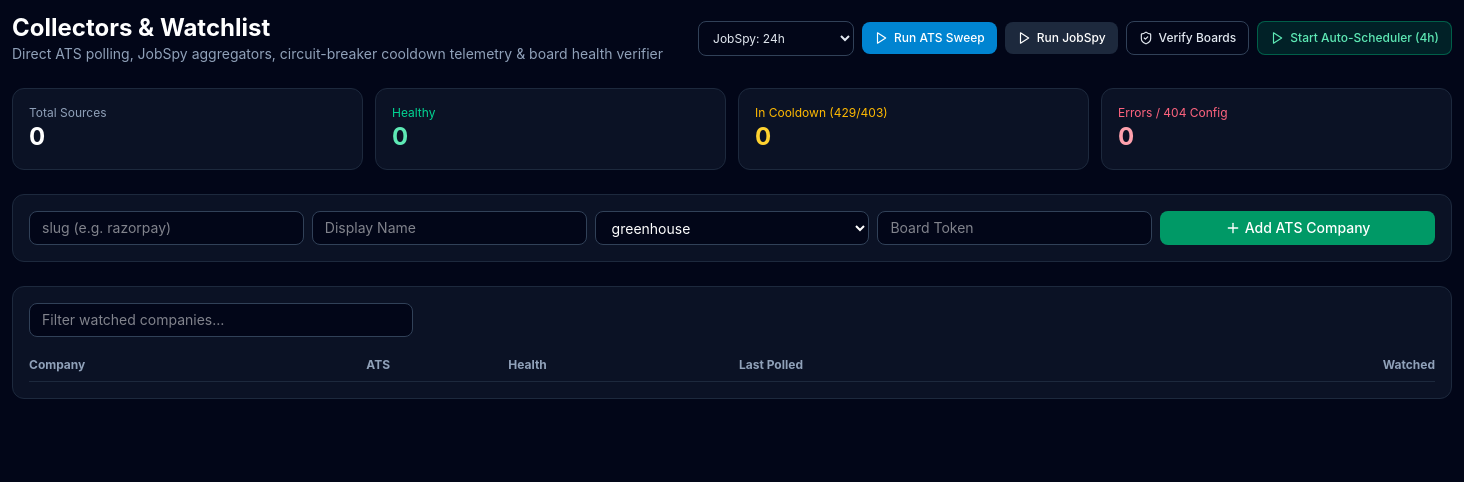
Test: Frontend Network Failure, Offline & API Error Resilience › CollectorsPage handles 409 overlap conflict banner when sweep already running
The image size is (1464, 482).
Click the button "Run ATS Sweep": (929, 38) [862, 22, 997, 54]
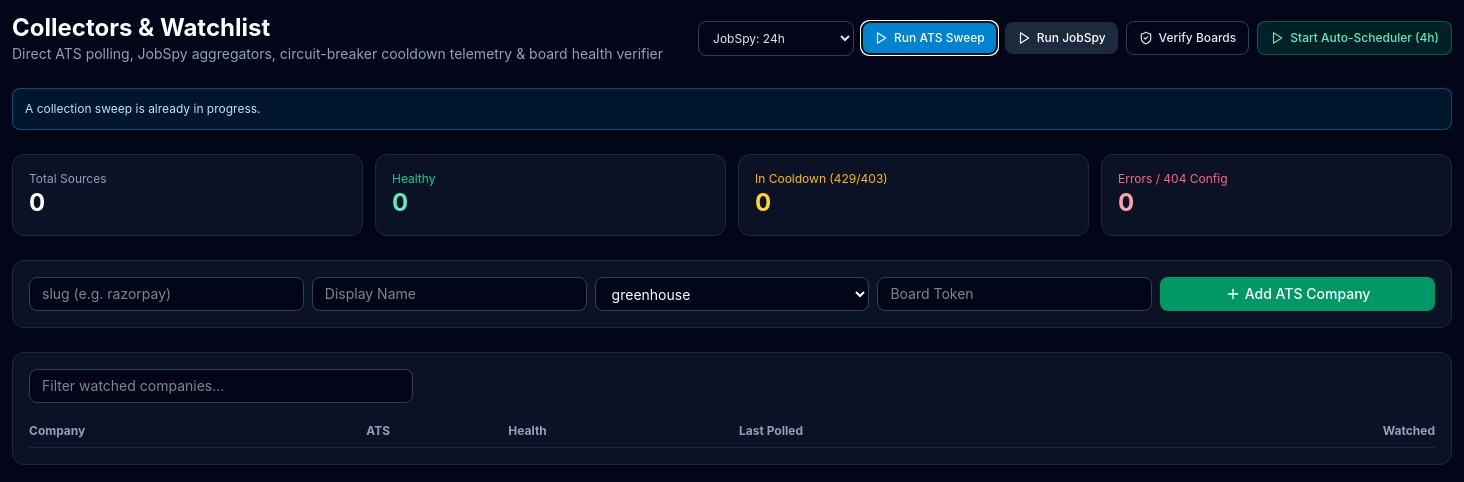
Result: the text "A collection sweep is already in progress." is shown at [12, 88, 1452, 130]
